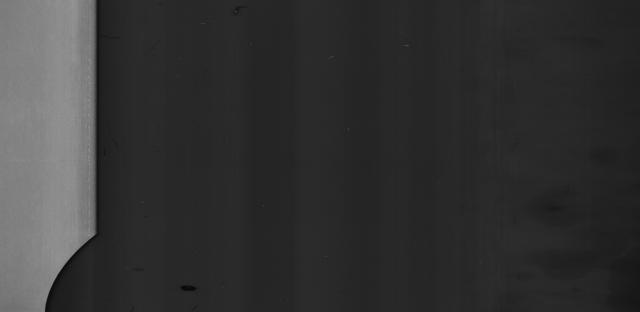crescent_gap: (28, 222, 136, 312)
